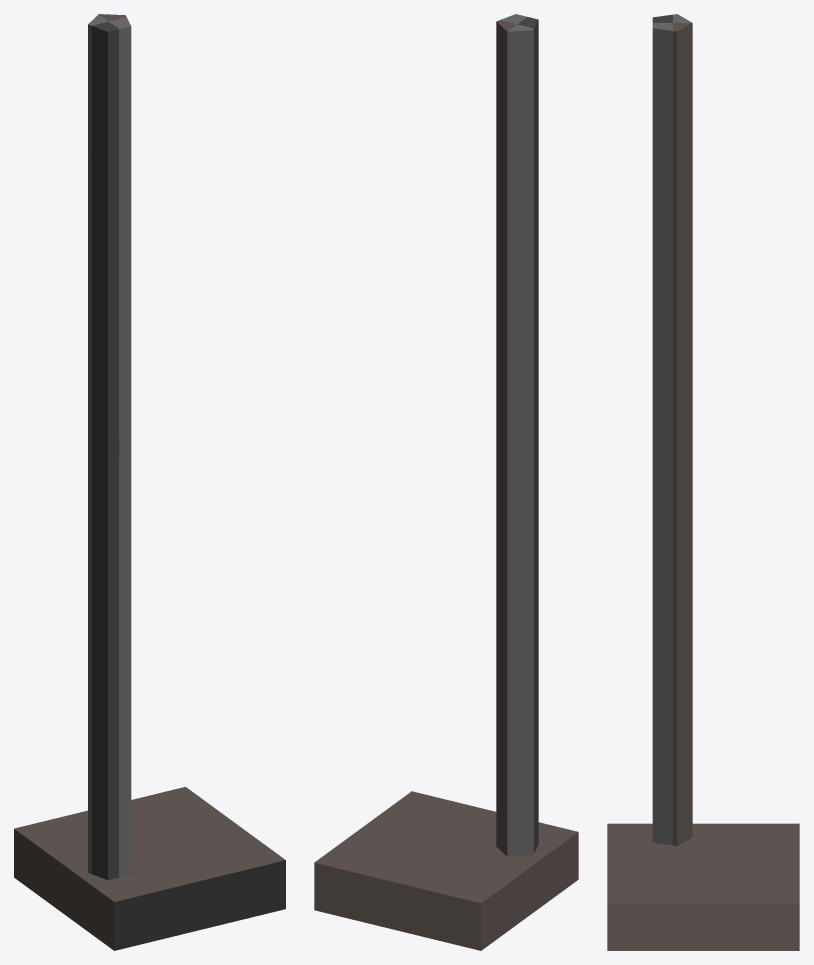
The model's file is wall_425x08.gltf.
The picture shows the model from 3 angles, left to right: view 1: azimuth 30°, elevation 25°; view 2: azimuth 150°, elevation 25°; view 3: azimuth 270°, elevation 25°; orthographic projection. The views are drawn at different scales.
Visible parts, largest first — view 1: wall_425x08; view 2: wall_425x08; view 3: wall_425x08.
Part boxes in pixels (<box>): wall_425x08: <box>14,14,285,950</box>; wall_425x08: <box>314,14,578,950</box>; wall_425x08: <box>607,14,799,950</box>.
Size of the model in its own units: 0.9874 by 4.93 by 1.
Materials: 1 (1 with a texture image).
